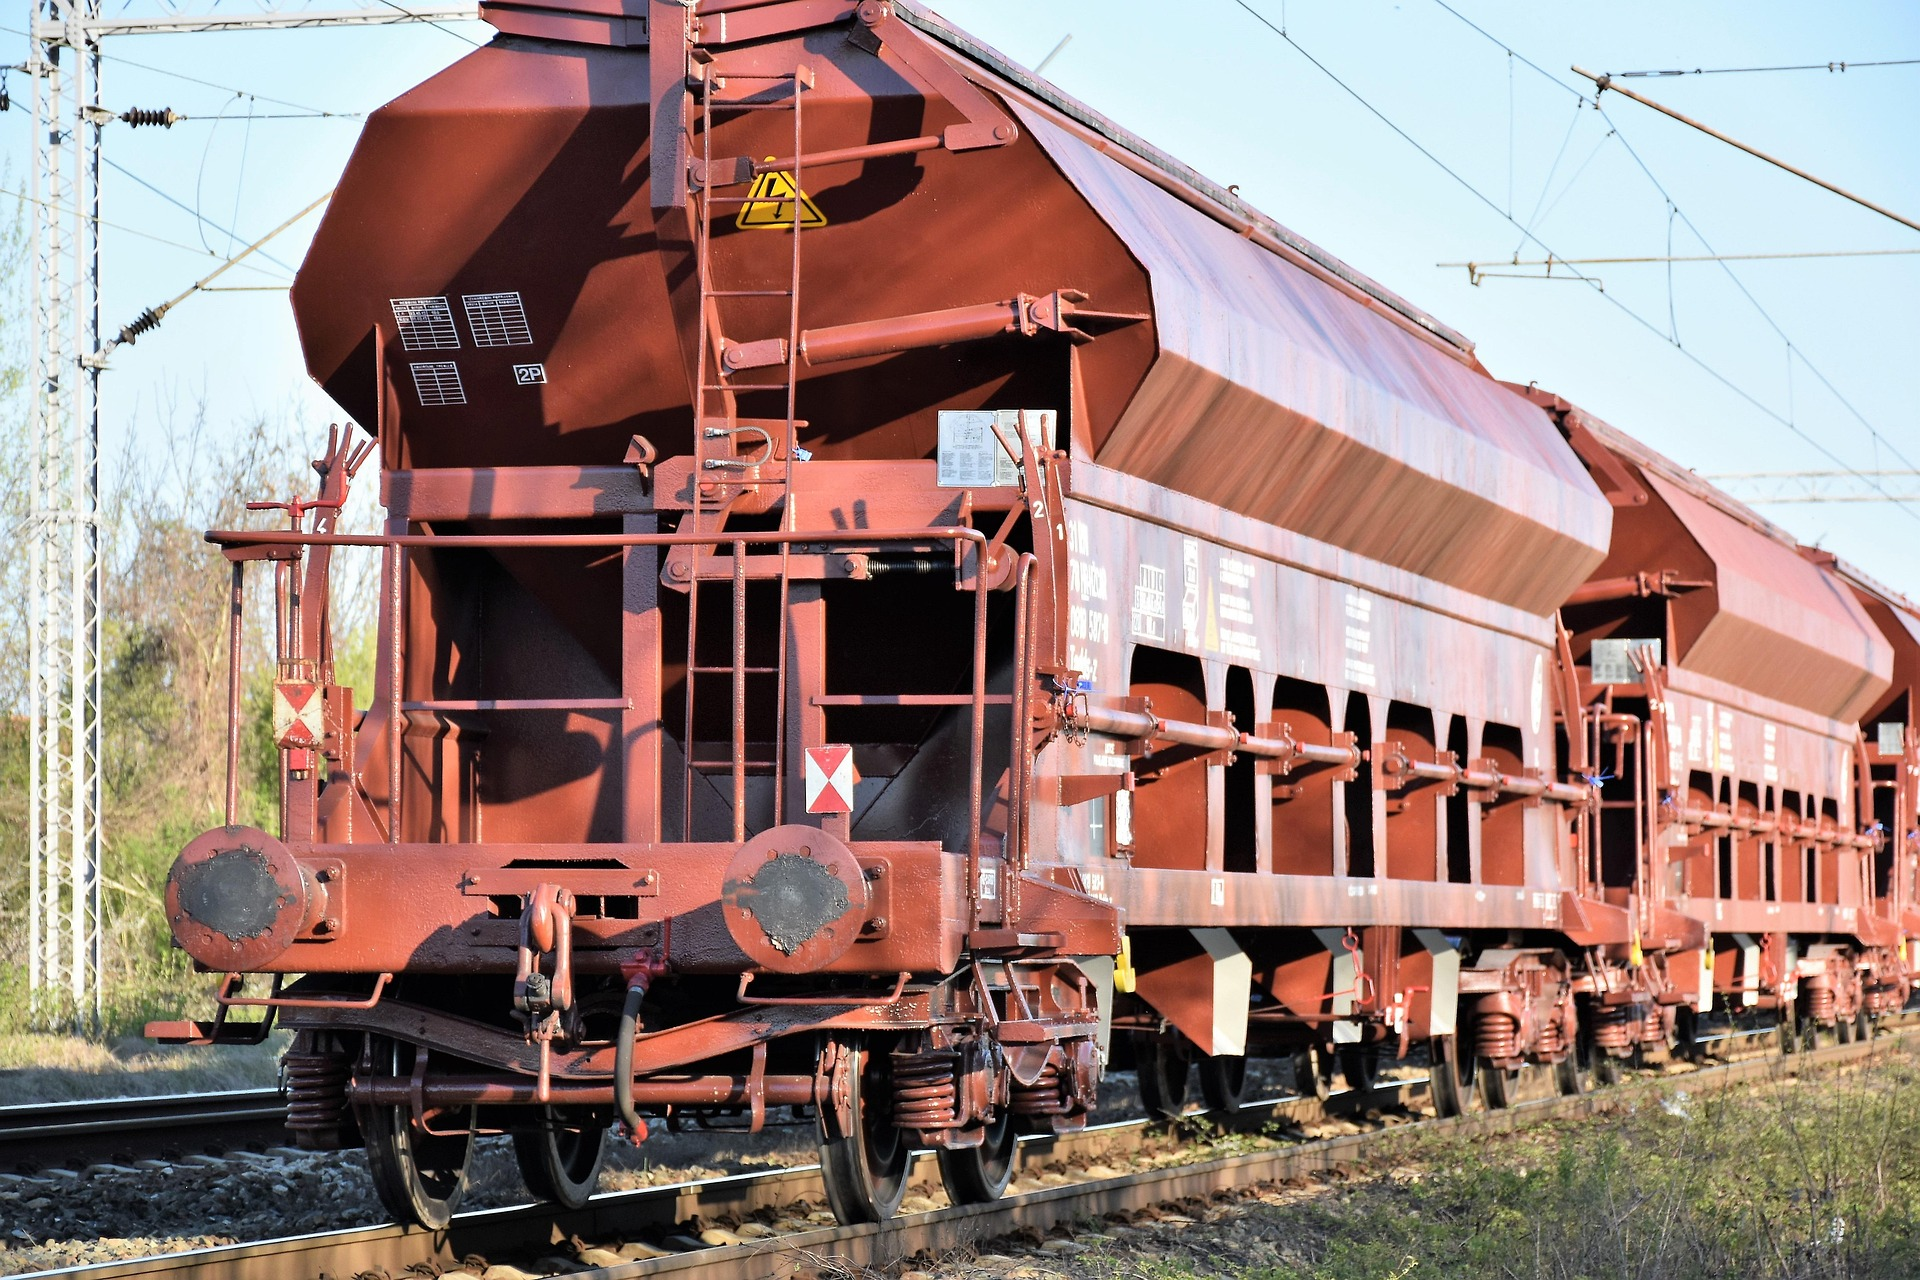train1: (130, 4, 1919, 1247)
